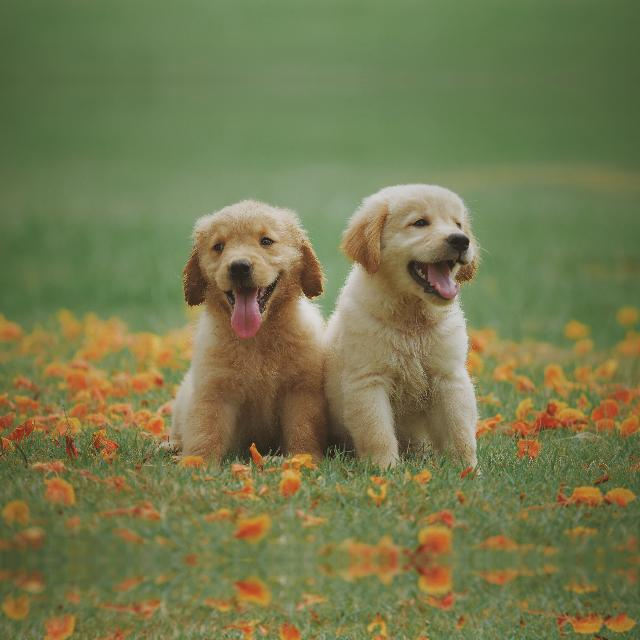dog: (328, 172, 500, 478), (165, 170, 325, 472)
